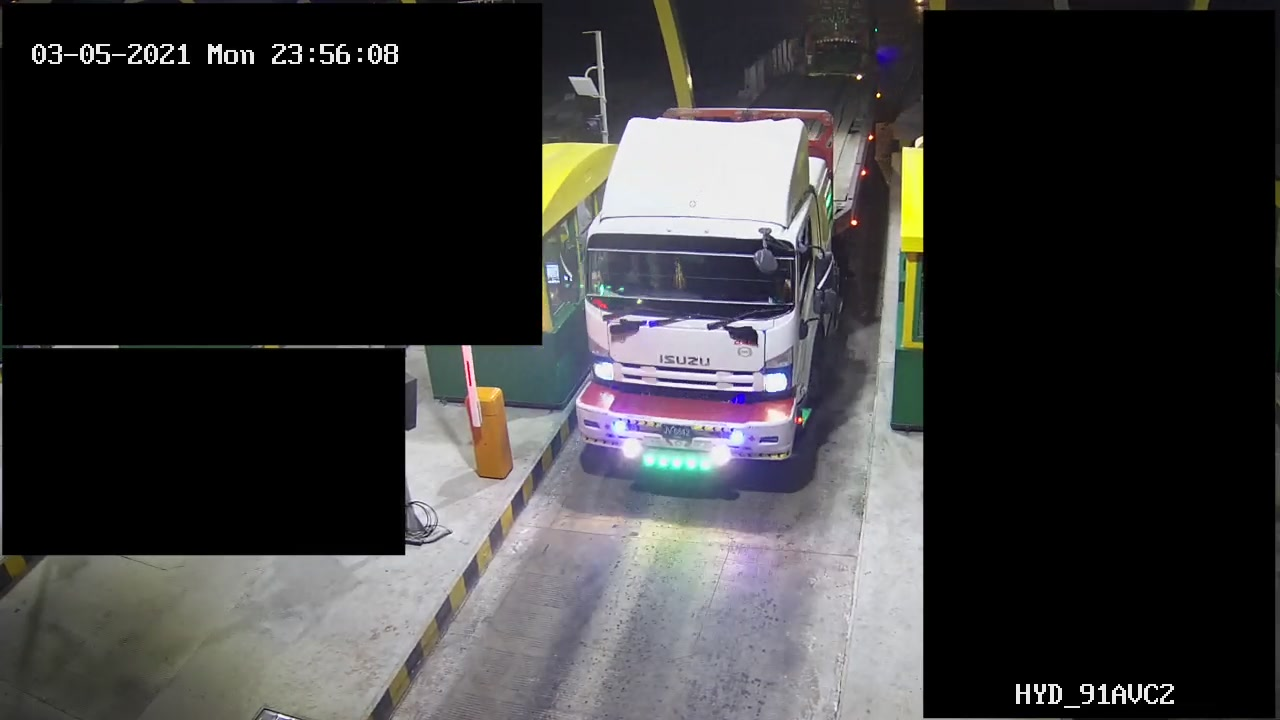F6: (568, 72, 885, 485)
